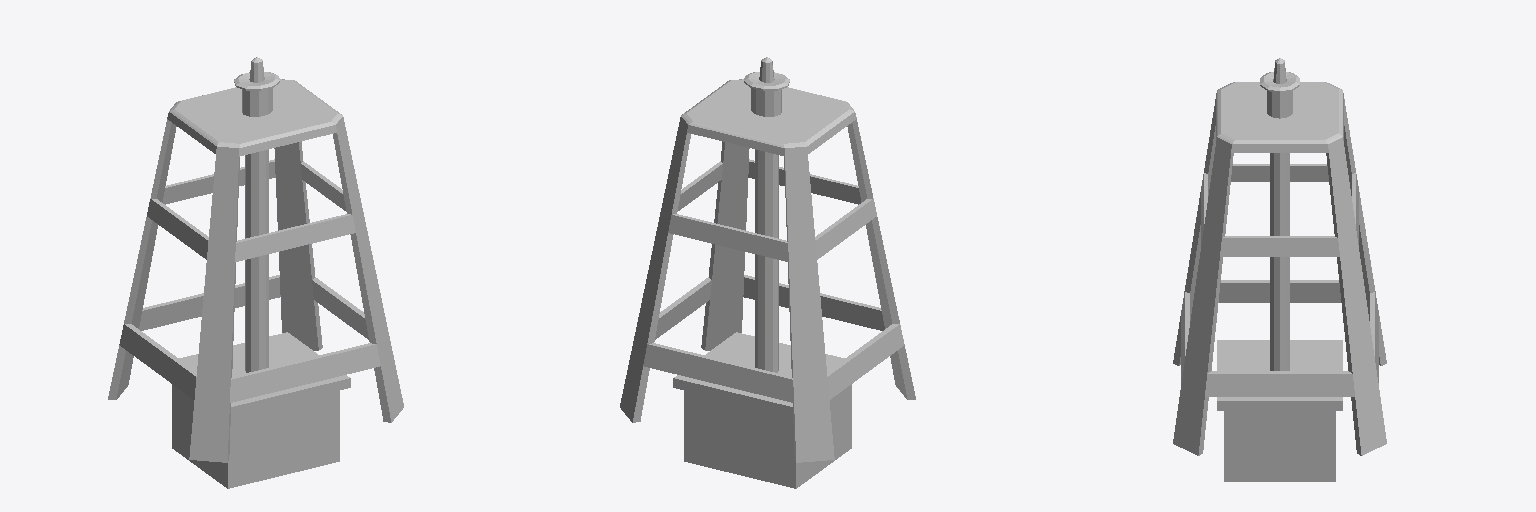
Rendered from buoyMiddle.obj.
3 renders of one model, left to right at view 1: azimuth 30°, elevation 25°; view 2: azimuth 150°, elevation 25°; view 3: azimuth 270°, elevation 25°, orthographic.
Visible parts, largest first — view 1: Object002_Object002Mesh; view 2: Object002_Object002Mesh; view 3: Object002_Object002Mesh.
Boxes of the visible parts, <box> form: Object002_Object002Mesh: <box>108,57,403,488</box>; Object002_Object002Mesh: <box>620,57,915,488</box>; Object002_Object002Mesh: <box>1173,58,1386,481</box>.
Bounding box in the file's own units: 0.7731 × 1.36 × 0.667.